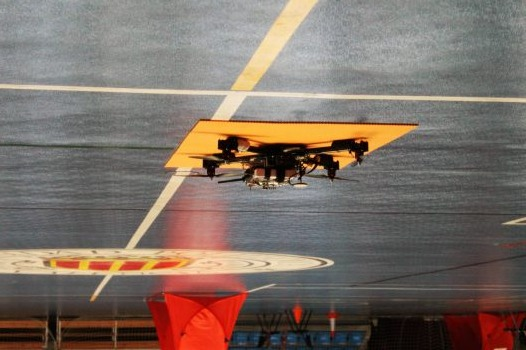drone: (165, 136, 371, 192)
